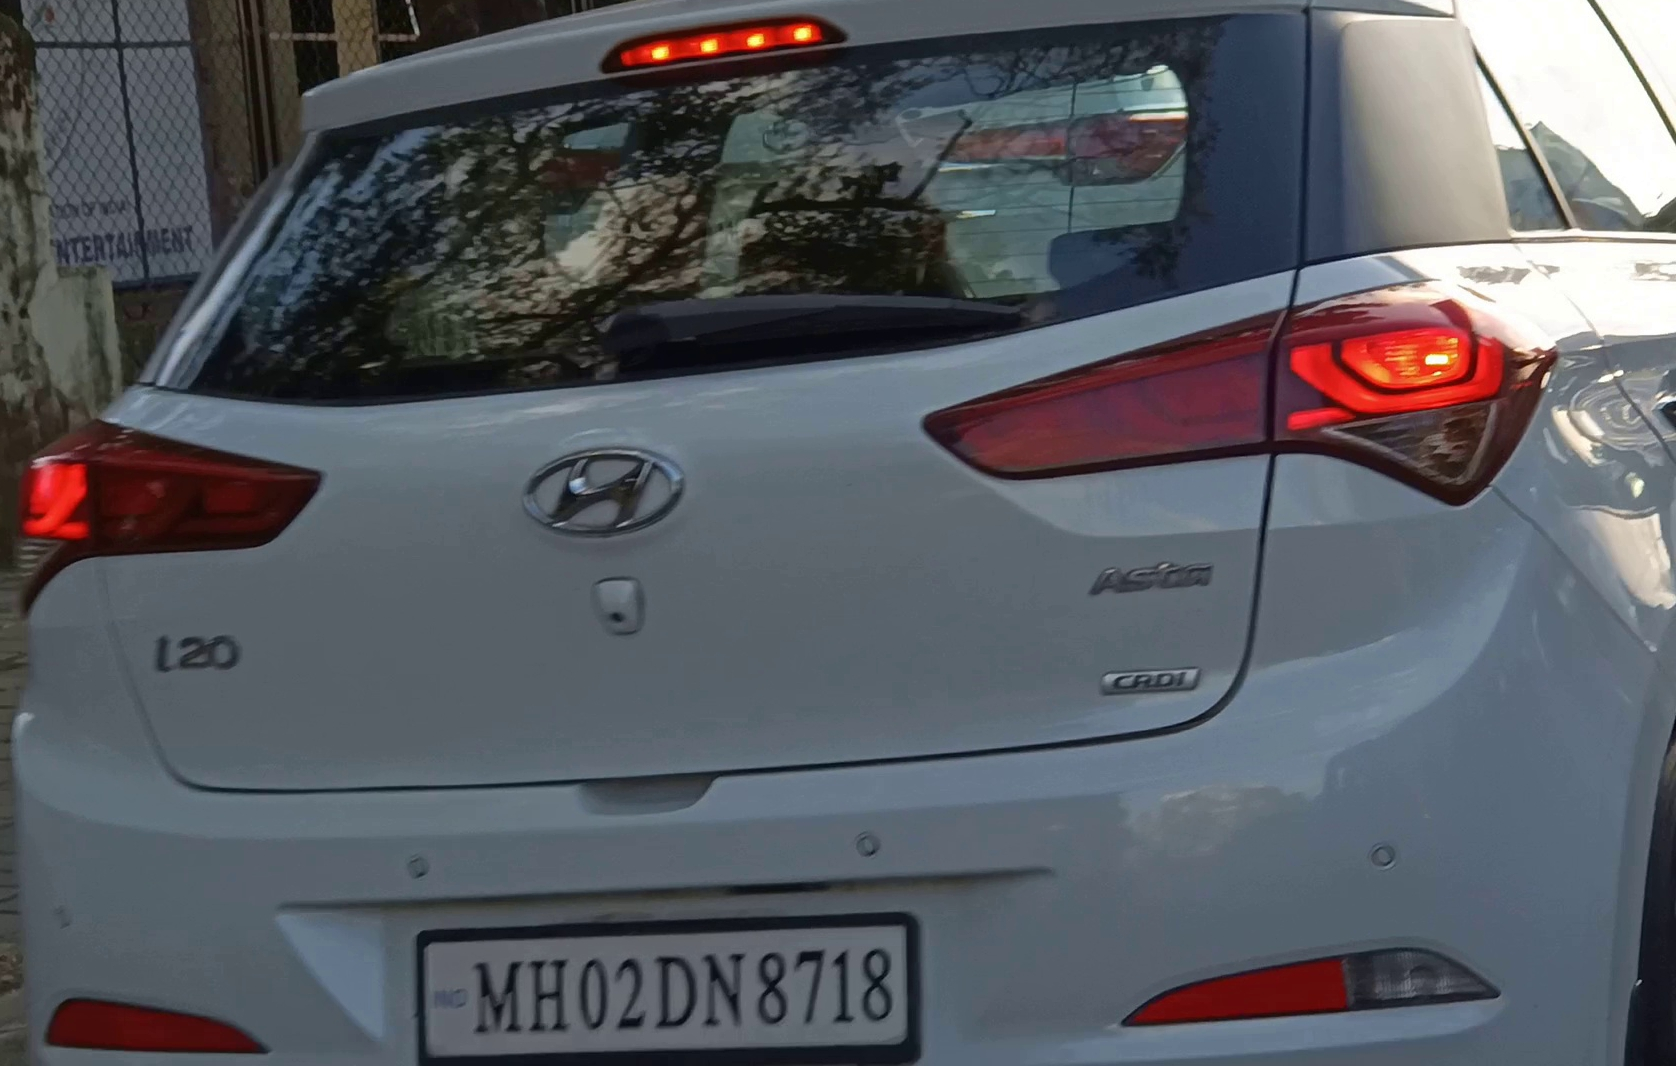MH02DN8718: (423, 924, 906, 1057)
